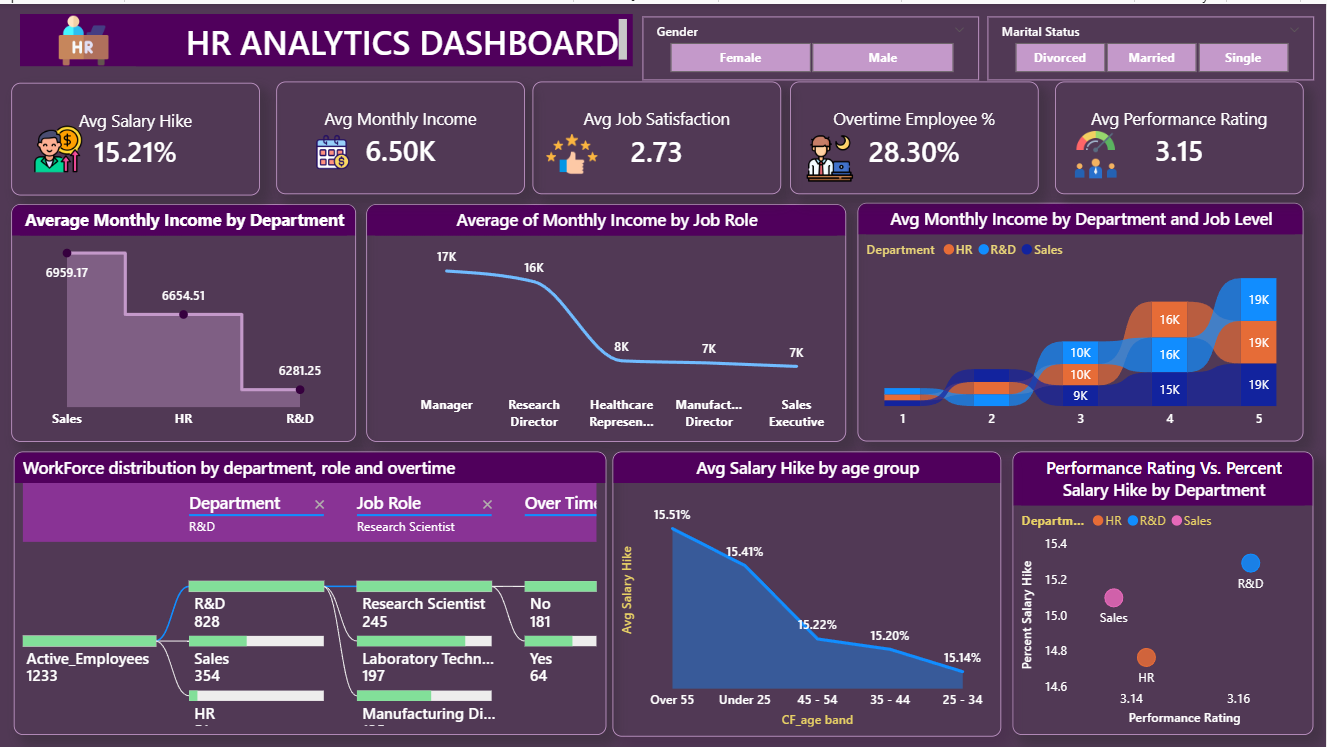

The dashboard page shown, as its layout file describes it:
{"tool":"powerbi","page":{"name":"Employee Performance & Compensation","canvas":[1280,720],"ordinal":1},"visuals":[{"type":"funnel","title":"Average  Monthly Income by Department","fields":{"Category":["HR data.Department"],"Y":["Avg(HR data.Monthly Income)"]},"box":[10.9,193,333,229.2],"z":0},{"type":"lineChart","fields":{"Category":["HR data.Job Role"],"Y":["Avg(HR data.Monthly Income)"]},"box":[353.5,193,464.5,229.2],"z":1000},{"type":"cardVisual","fields":{"Data":["HR data.Avg Salary Hike"]},"box":[10.9,80.8,240.1,100.1],"z":2000},{"type":"ribbonChart","title":"Avg Monthly Income by Department and Job Level","fields":{"Y":["Avg(HR data.Monthly Income)"],"Category":["HR data.Job Level"],"Series":["HR data.Department"]},"box":[827.6,191.8,430.7,230.4],"z":3000},{"type":"image","box":[31.4,117,49.5,45.8],"z":4000},{"type":"cardVisual","fields":{"Data":["Avg(HR data.Monthly Income)"]},"box":[260.6,80.8,240.1,100.1],"z":5000},{"type":"cardVisual","fields":{"Data":["HR data.Avg Job Satisfaction"]},"box":[510.3,82,240.1,100.1],"z":6000},{"type":"cardVisual","fields":{"Data":["HR data.Overtime Employee %"]},"box":[762.5,82,240.1,100.1],"z":7000},{"type":"image","box":[774.5,126.7,53.1,44.6],"z":8000},{"type":"image","box":[524.8,117,54.3,54.3],"z":9000},{"type":"image","box":[298,114.6,45.8,56.7],"z":10000},{"type":"cardVisual","fields":{"Data":["Avg(HR data.Performance Rating)"]},"box":[1018.2,83.2,240.1,100.1],"z":11000},{"type":"image","box":[1032.7,117,49.5,56.7],"z":12000},{"type":"clusteredBarChart","title":"Performance Rating Vs. Percent Salary Hike by Department","fields":{"Y":["Avg(HR data.Performance Rating)","HR data.Avg Salary Hike"],"Category":["HR data.Department"]},"box":[970,431.9,298,273.9],"z":13000},{"type":"decompositionTreeVisual","title":"WorkForce Distribution by Department, Role and Overtime","fields":{"ExplainBy":["HR data.Department","HR data.Job Role","HR data.Over Time"],"Analyze":["HR data.Active_Employees"]},"box":[7.2,431.9,571.9,273.9],"z":14000},{"type":"areaChart","title":"Avg Salary Hike by age group","fields":{"Y":["HR data.Avg Salary Hike"],"Category":["HR data.CF_age band"]},"box":[586.3,430.7,375.2,275.1],"z":15000},{"type":"textbox","box":[9.7,0,594.8,67.6],"z":16000},{"type":"image","box":[31.4,10.9,67.6,45.8],"z":17000},{"type":"slicer","fields":{"Values":["HR data.Marital Status"]},"box":[957.9,7.2,300.4,67.6],"z":18000},{"type":"slicer","fields":{"Values":["HR data.Gender"]},"box":[639.4,7.2,300.4,67.6],"z":19000}]}

Visuals, with their boxes in screenshot pixels (x1, y1, x2, y2), scaled from the page's 1280x720 canvas onto the 1327x747 screenshot:
"Average  Monthly Income by Department" funnel: l=11, t=200, r=357, b=438
lineChart - HR data.Job Role x Avg(HR data.Monthly Income): l=366, t=200, r=848, b=438
cardVisual - HR data.Avg Salary Hike: l=11, t=84, r=260, b=188
"Avg Monthly Income by Department and Job Level" ribbonChart: l=858, t=199, r=1305, b=438
image: l=33, t=121, r=84, b=169
cardVisual - Avg(HR data.Monthly Income): l=270, t=84, r=519, b=188
cardVisual - HR data.Avg Job Satisfaction: l=529, t=85, r=778, b=189
cardVisual - HR data.Overtime Employee %: l=790, t=85, r=1039, b=189
image: l=803, t=131, r=858, b=178
image: l=544, t=121, r=600, b=178
image: l=309, t=119, r=356, b=178
cardVisual - Avg(HR data.Performance Rating): l=1056, t=86, r=1305, b=190
image: l=1071, t=121, r=1122, b=180
"Performance Rating Vs. Percent Salary Hike by Department" clusteredBarChart: l=1006, t=448, r=1315, b=732
"WorkForce Distribution by Department, Role and Overtime" decompositionTreeVisual: l=7, t=448, r=600, b=732
"Avg Salary Hike by age group" areaChart: l=608, t=447, r=997, b=732
textbox: l=10, t=0, r=627, b=70
image: l=33, t=11, r=103, b=59
slicer - HR data.Marital Status: l=993, t=7, r=1305, b=78
slicer - HR data.Gender: l=663, t=7, r=974, b=78
